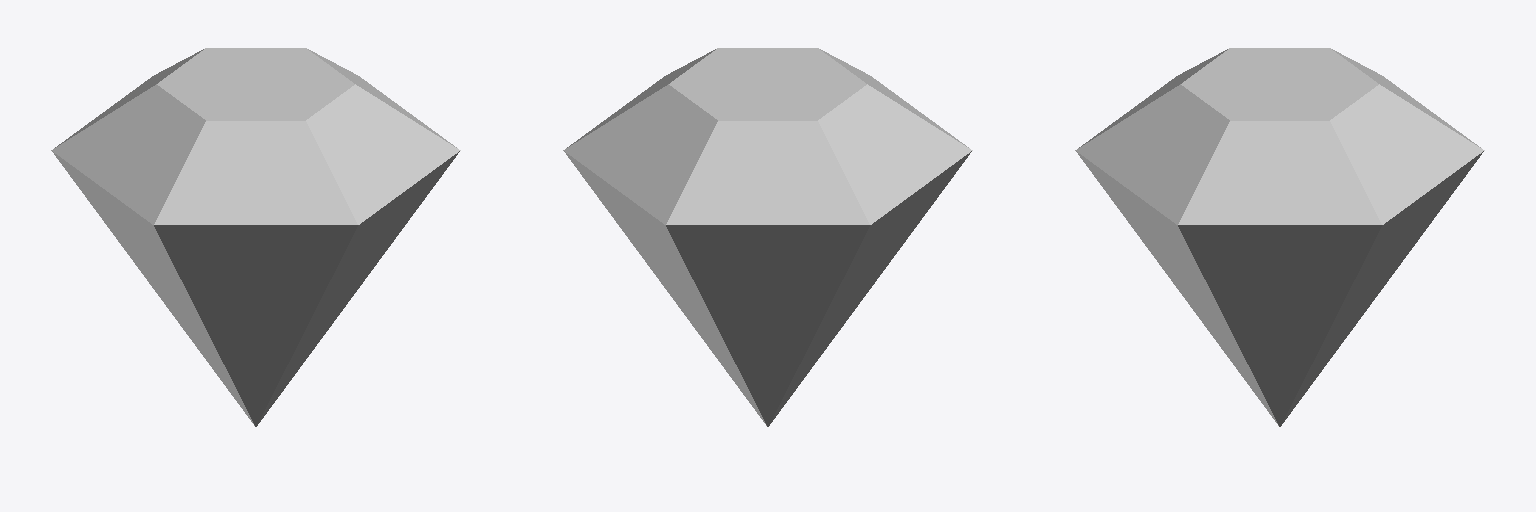
The model's file is Diamond.obj.
The picture shows the model from 3 angles: view 1: azimuth 30°, elevation 25°; view 2: azimuth 150°, elevation 25°; view 3: azimuth 270°, elevation 25°; orthographic projection.
Parts seen in each view (by area): view 1: Cylinder; view 2: Cylinder; view 3: Cylinder.
Boxes of the visible parts, x1=… form: Cylinder: x1=51, y1=48, x2=460, y2=426; Cylinder: x1=563, y1=48, x2=972, y2=426; Cylinder: x1=1075, y1=48, x2=1484, y2=426.
Bounding box in the file's own units: 1.73 × 1.85 × 2.